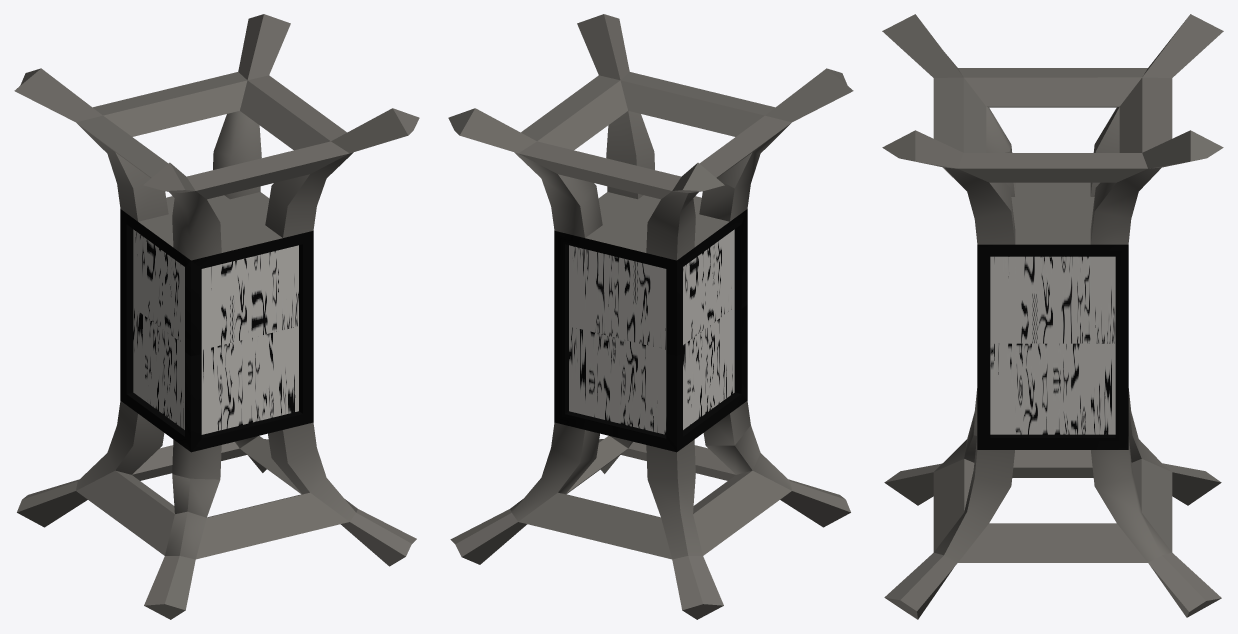
Rendered from Artifact_03.FBX.
The picture shows the model from 3 angles, left to right: view 1: azimuth 30°, elevation 25°; view 2: azimuth 150°, elevation 25°; view 3: azimuth 270°, elevation 25°; orthographic projection. The views are drawn at different scales.
Visible parts, largest first — view 1: Box001; view 2: Box001; view 3: Box001.
Part boxes in pixels (x1,y1,x2,y2): Box001: (14,14,419,619); Box001: (448,14,853,619); Box001: (882,14,1223,619).
Size of the model in its own units: 339 by 537 by 339.
